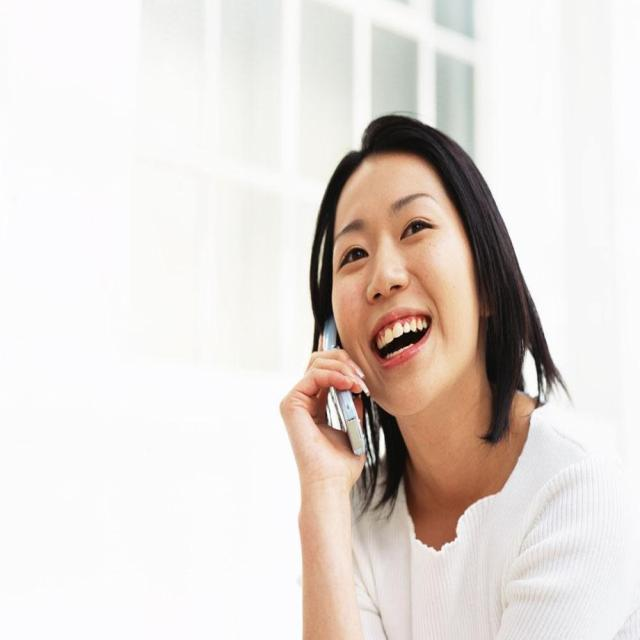phone: (289, 227, 393, 487)
